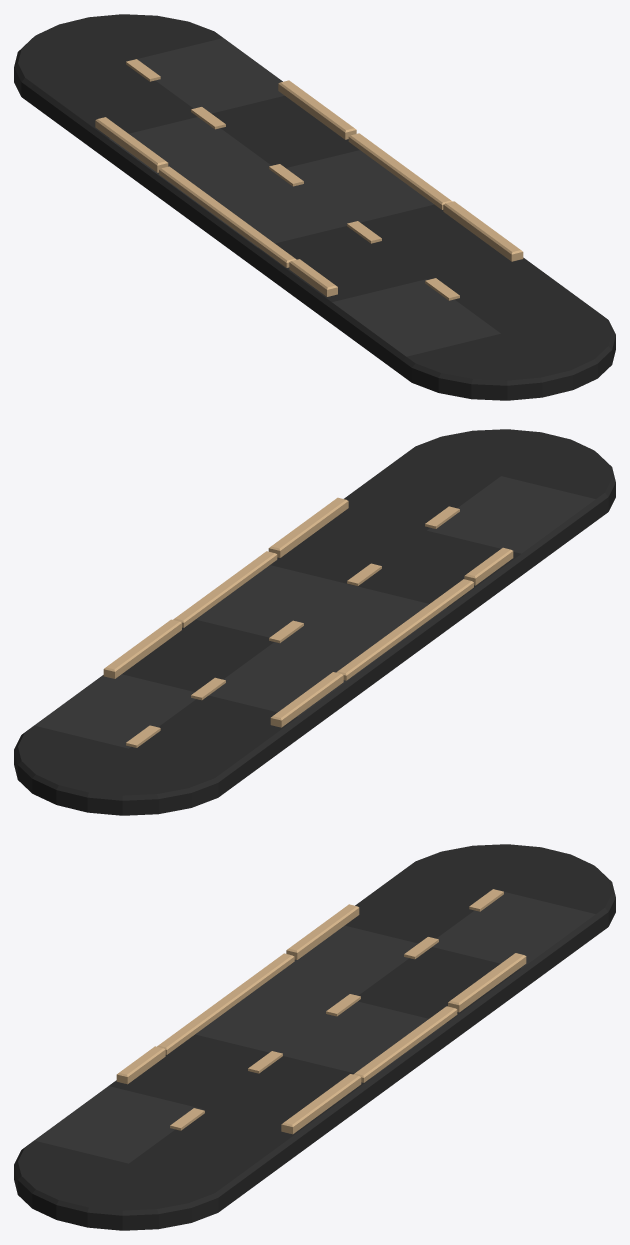
The model's file is RoadVarTwo (1).fbx.
3 renders of one model, top to bottom at view 1: azimuth 30°, elevation 25°; view 2: azimuth 150°, elevation 25°; view 3: azimuth 330°, elevation 25°, orthographic.
Parts seen in each view (by area): view 1: Cylinder.025; view 2: Cylinder.025; view 3: Cylinder.025.
Part boxes in pixels (x1,y1,x2,y2): Cylinder.025: (14, 14, 615, 400); Cylinder.025: (14, 429, 615, 815); Cylinder.025: (14, 844, 615, 1230).
Size of the model in its own units: 83 by 11.01 by 355.
